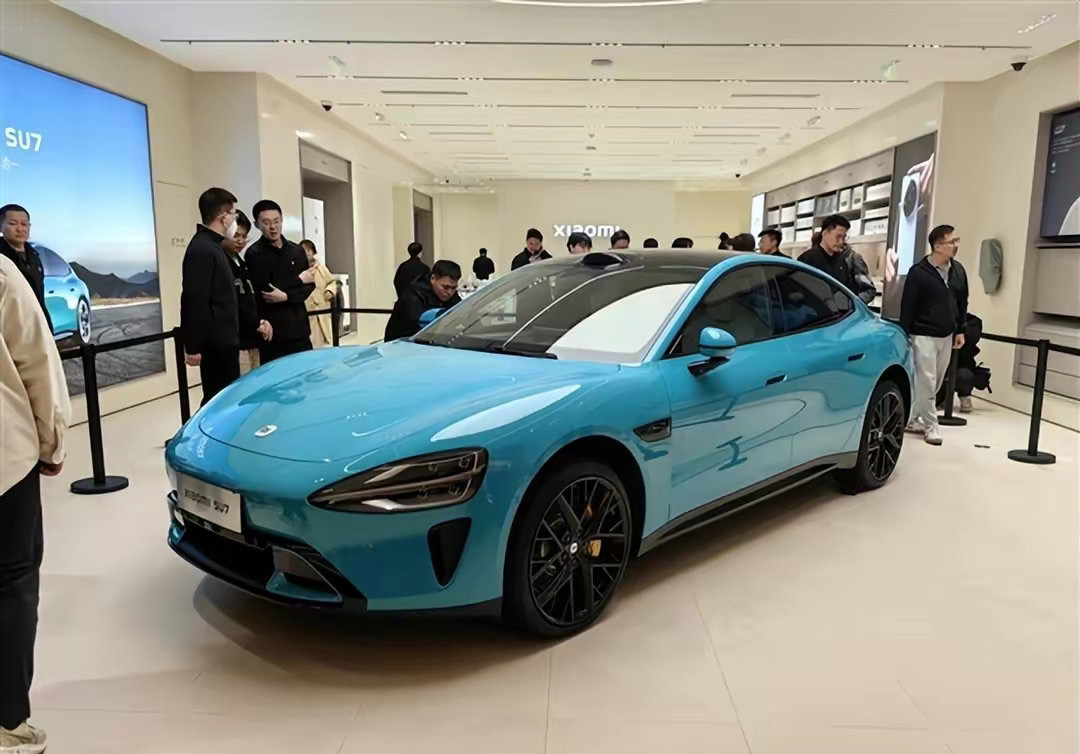su7: (158, 250, 912, 637)
